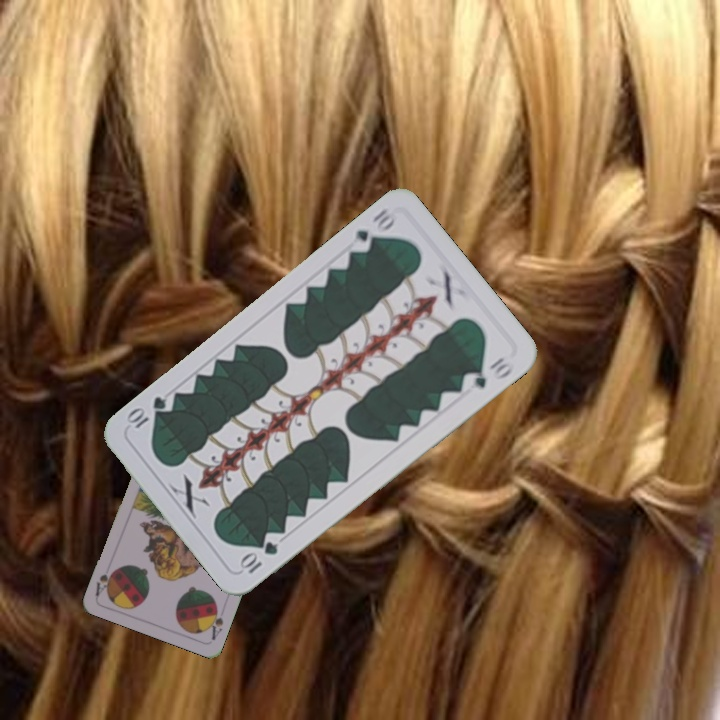G10: (346, 202, 401, 256), (236, 537, 281, 577)
SA: (203, 601, 226, 643)
